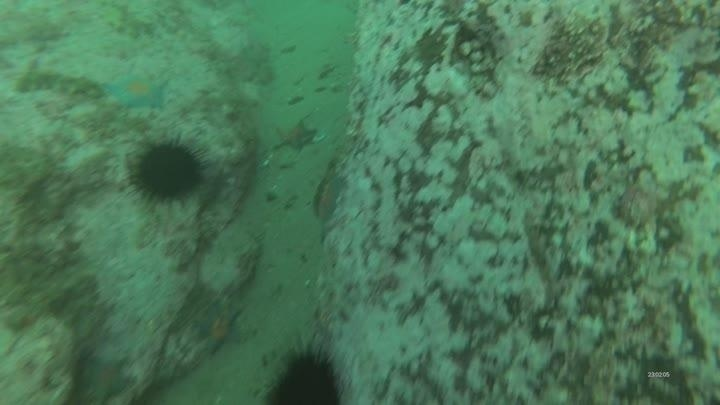echinus: (126, 135, 210, 209), (263, 342, 347, 405)
holothurian: (10, 63, 105, 102), (92, 2, 158, 42)
starfish: (192, 300, 247, 357), (77, 351, 134, 404), (100, 71, 171, 113), (311, 168, 349, 225), (272, 118, 319, 154)
